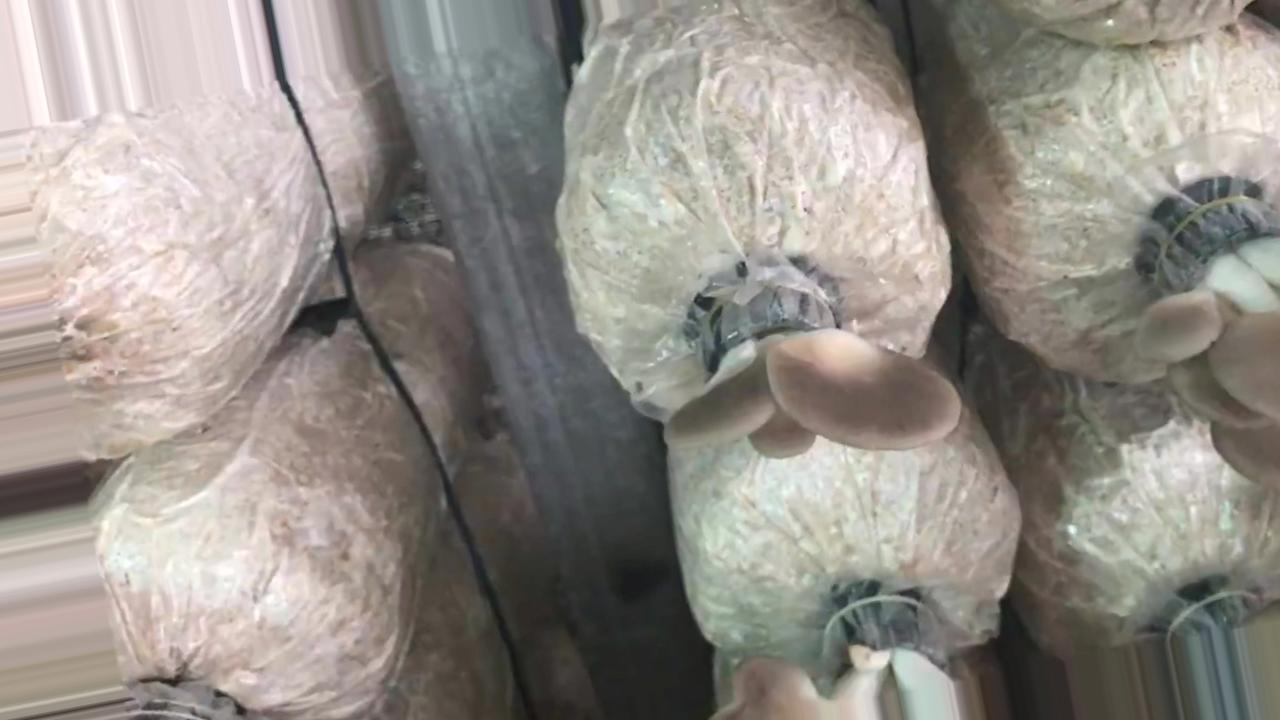nam: (657, 262, 963, 467), (1135, 177, 1280, 486)
